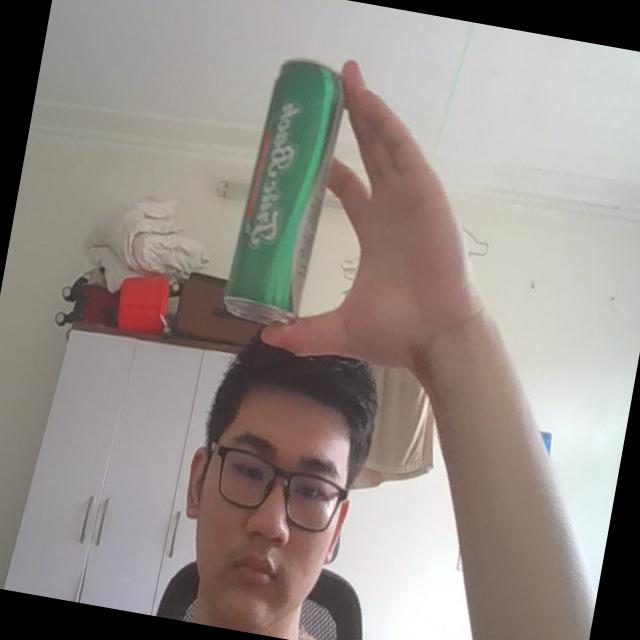Bia-Truc-Bach: (217, 50, 353, 334)
